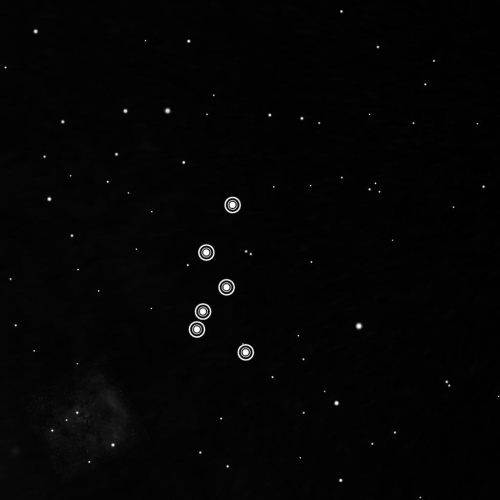cassiopeia: (184, 192, 258, 366)
